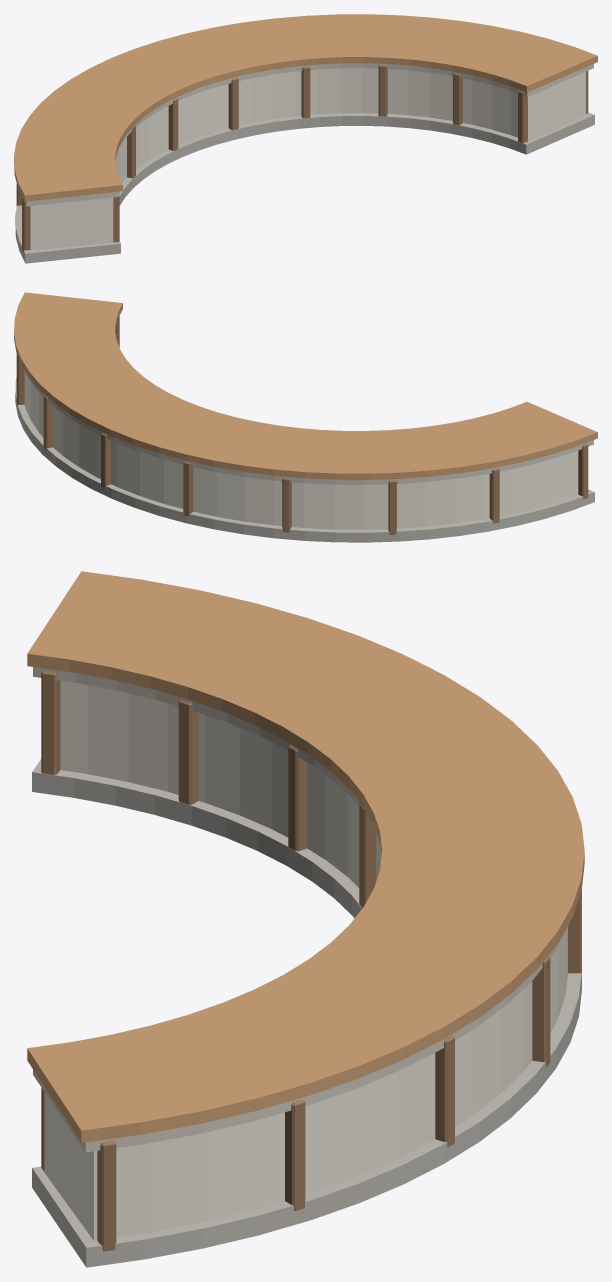
The model's file is Park_CrescentPlatform.fbx.
The picture shows the model from 3 angles, top to bottom: view 1: azimuth 30°, elevation 25°; view 2: azimuth 150°, elevation 25°; view 3: azimuth 270°, elevation 25°; orthographic projection. The views are drawn at different scales.
Visible parts, largest first — view 1: Park_CrescentPlatform; view 2: Park_CrescentPlatform; view 3: Park_CrescentPlatform.
Boxes of the visible parts, x1,y1,x2,y2 form: Park_CrescentPlatform: (14,14,597,263); Park_CrescentPlatform: (14,292,597,542); Park_CrescentPlatform: (27,571,584,1267).
Bounding box in the file's own units: 4.84 × 0.56 × 2.04.
